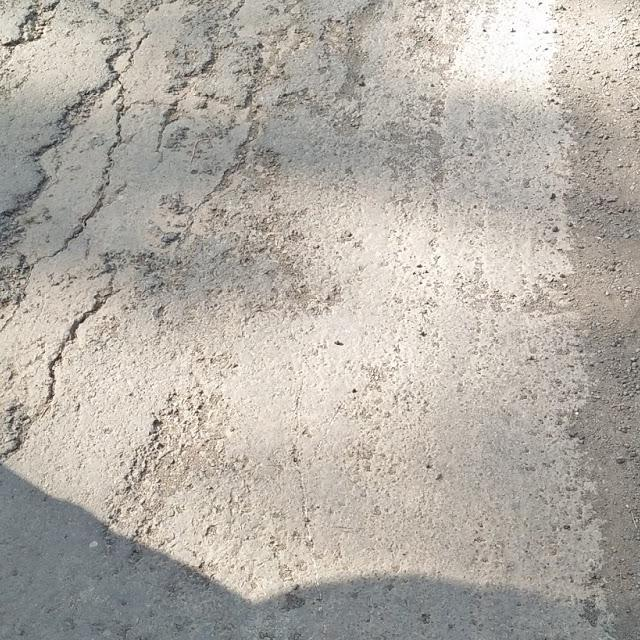retak_kulit_buaya: (0, 0, 459, 230)
